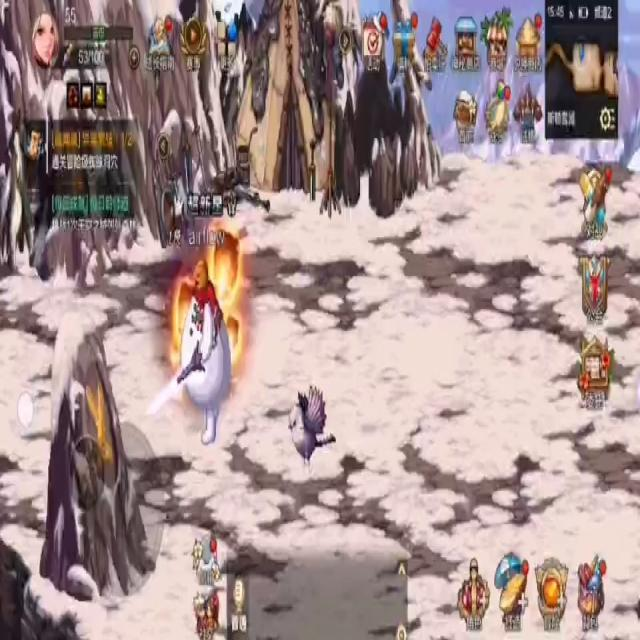player: (181, 253, 233, 446)
